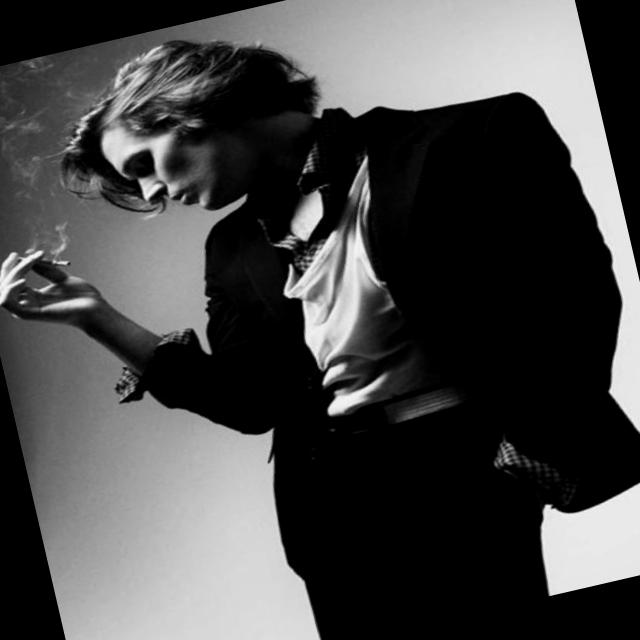smoke: (18, 246, 72, 276)
